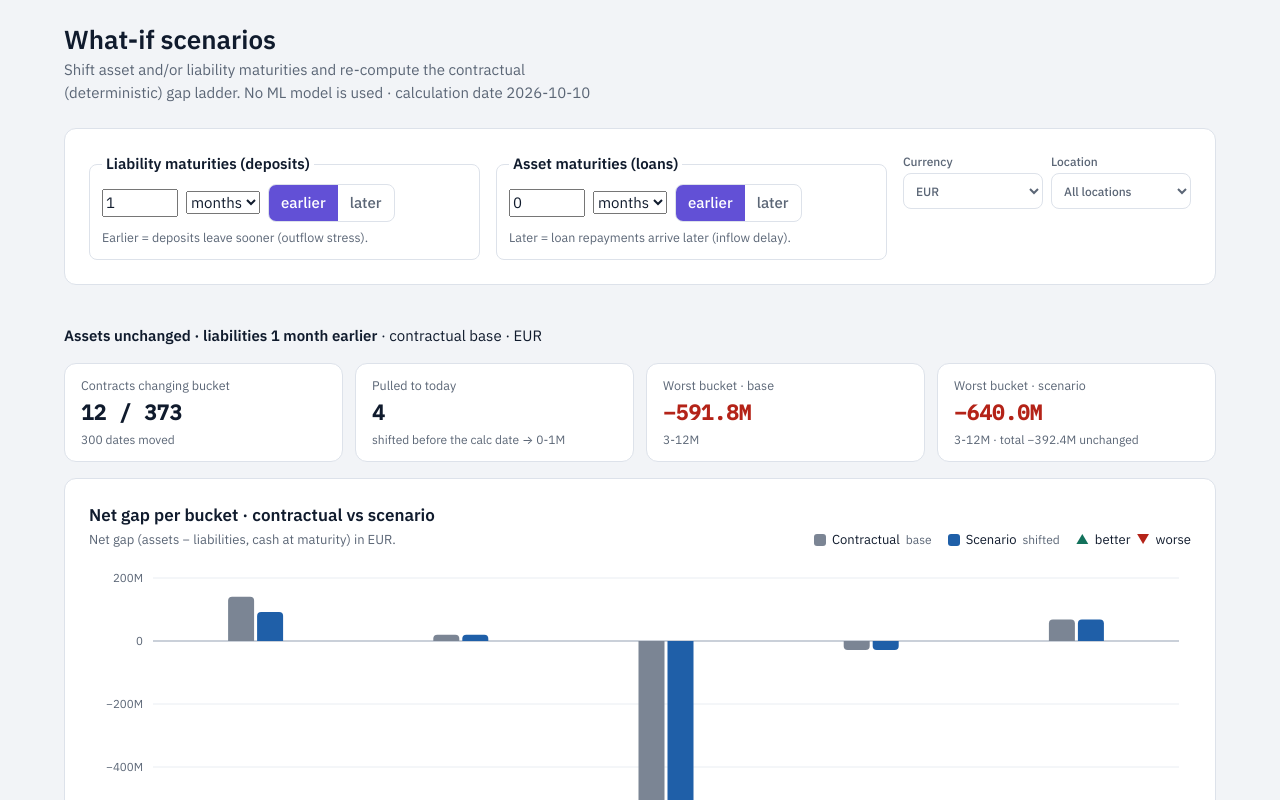
Test case: is contractual only: no AI toggle, no preset buttons; currency filter and zero shift still work
The image size is (1280, 800).
Expected: the text "No ML model is used" is shown, [64,60,525,102]
Step 1. Select "USD" in the dropdown labelled "Currency" → x=973, y=191, box [903,173,1043,209]
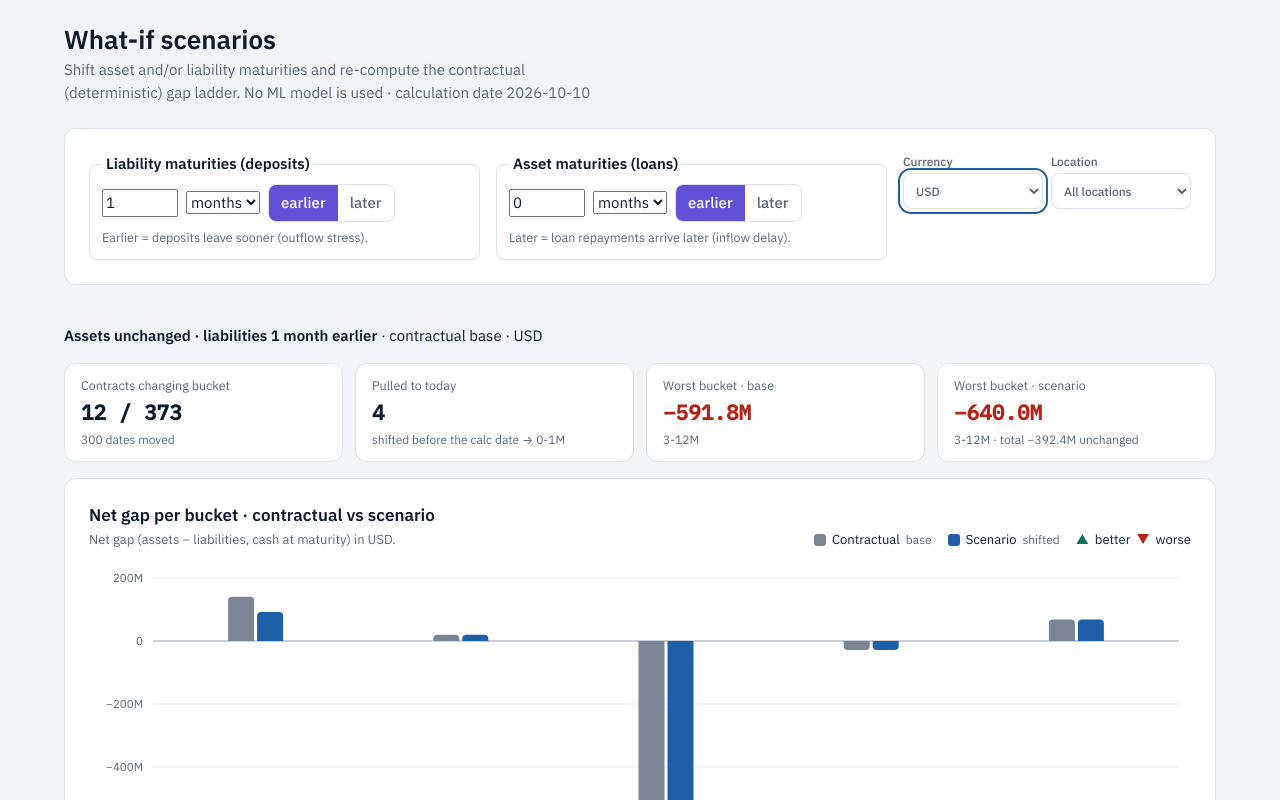
Step 2. Replace the text in the number field named "Liability maturities (deposits): amount" below "Liability maturities (deposits)" with "0" → x=140, y=203, box [102,189,178,217]
(page scrolled)
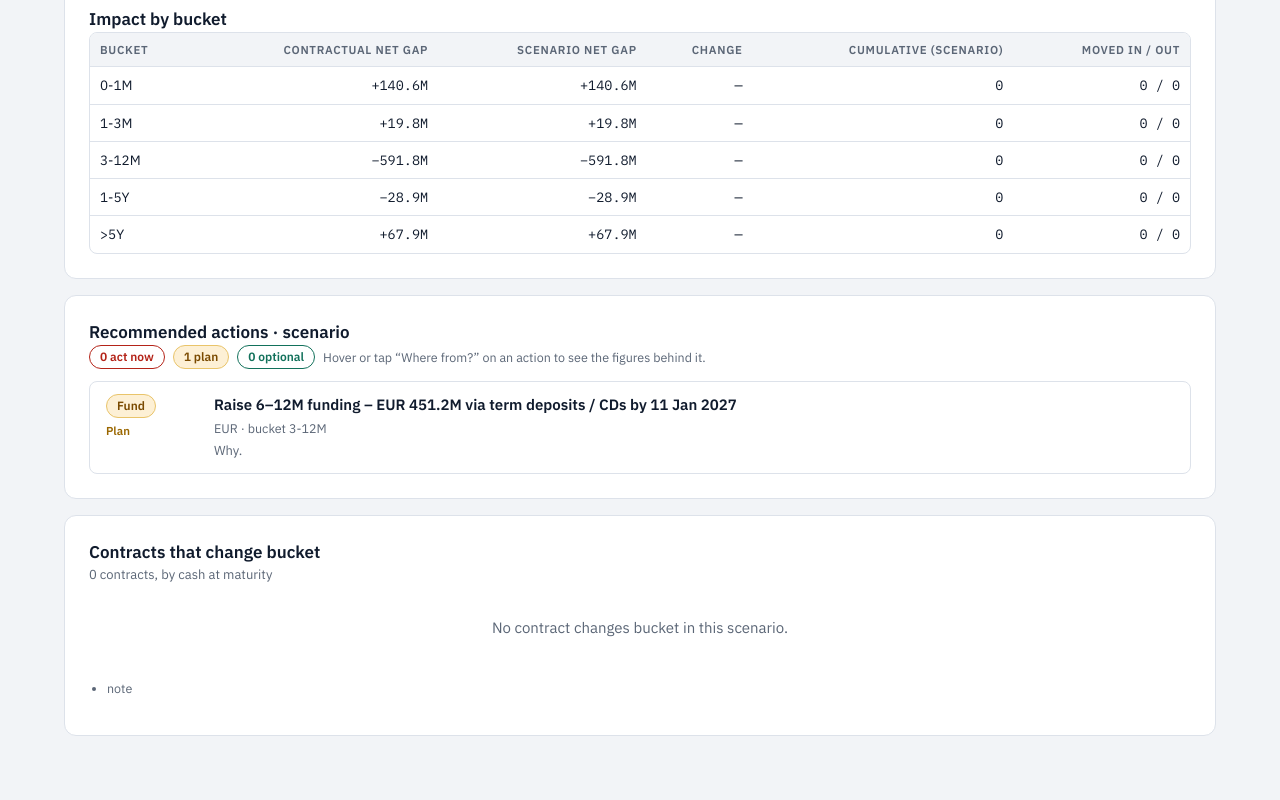
Now the text "No contract changes bucket in this scenario." is shown, box [492,618,788,637]
